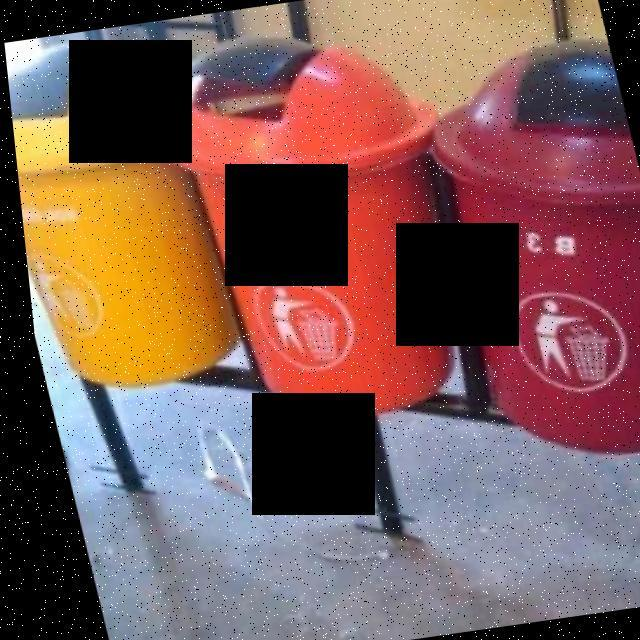bin: (133, 32, 497, 442), (391, 27, 640, 495), (3, 32, 252, 416)
